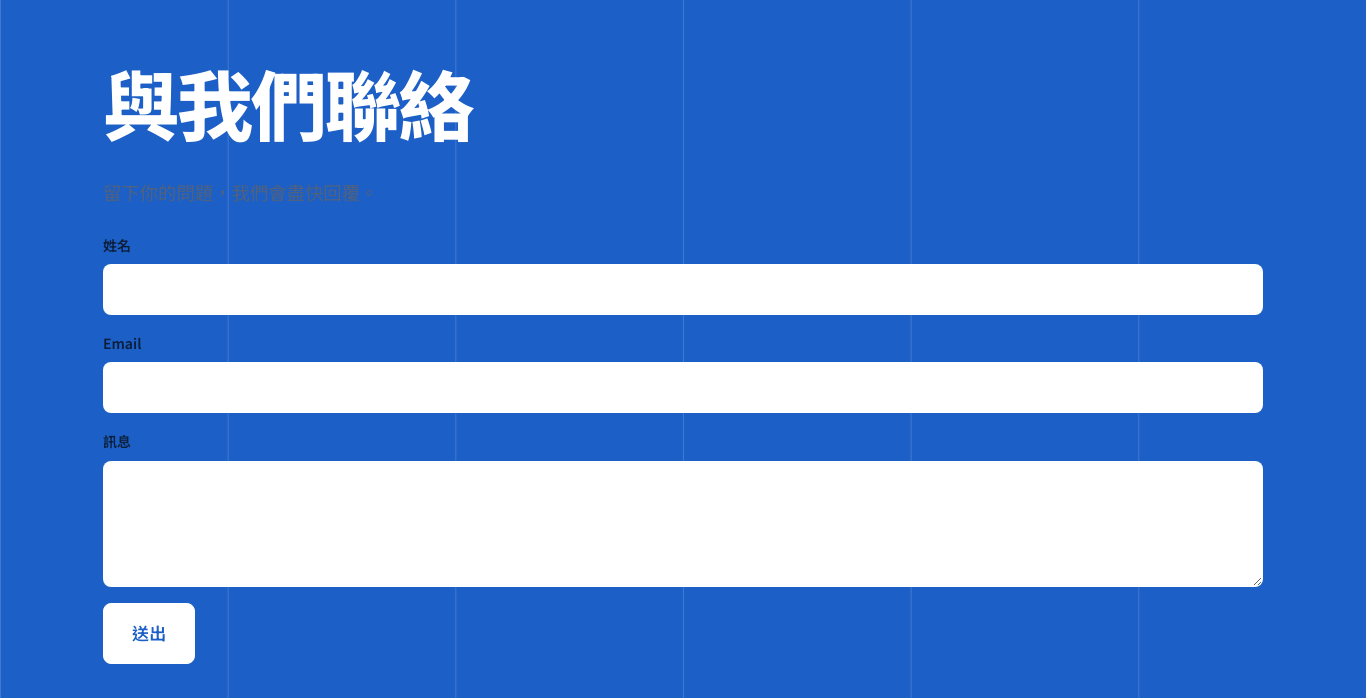
it: site form › reports a failed submission honestly
In the field labelled "姓名": point(683, 290) [103,264,1263,315], type "小明"
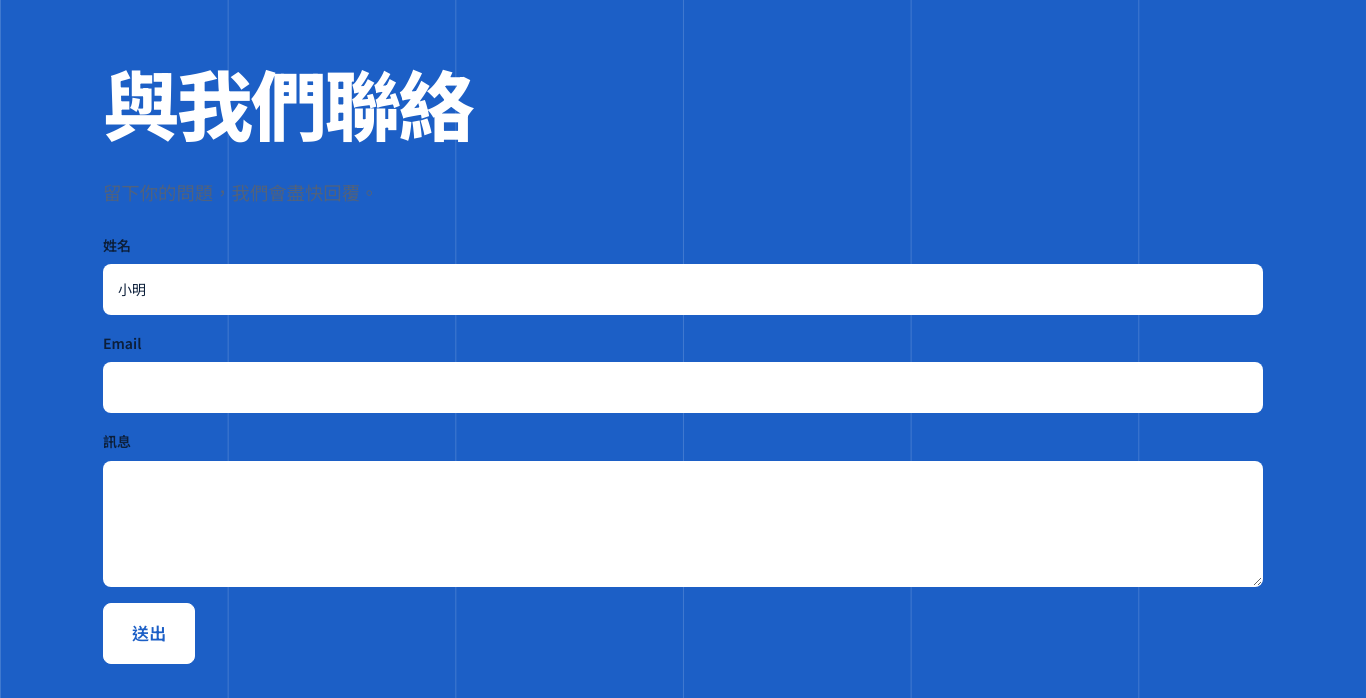
In the field labelled "Email": point(683, 388) [103,362,1263,414], type "a@b.co"
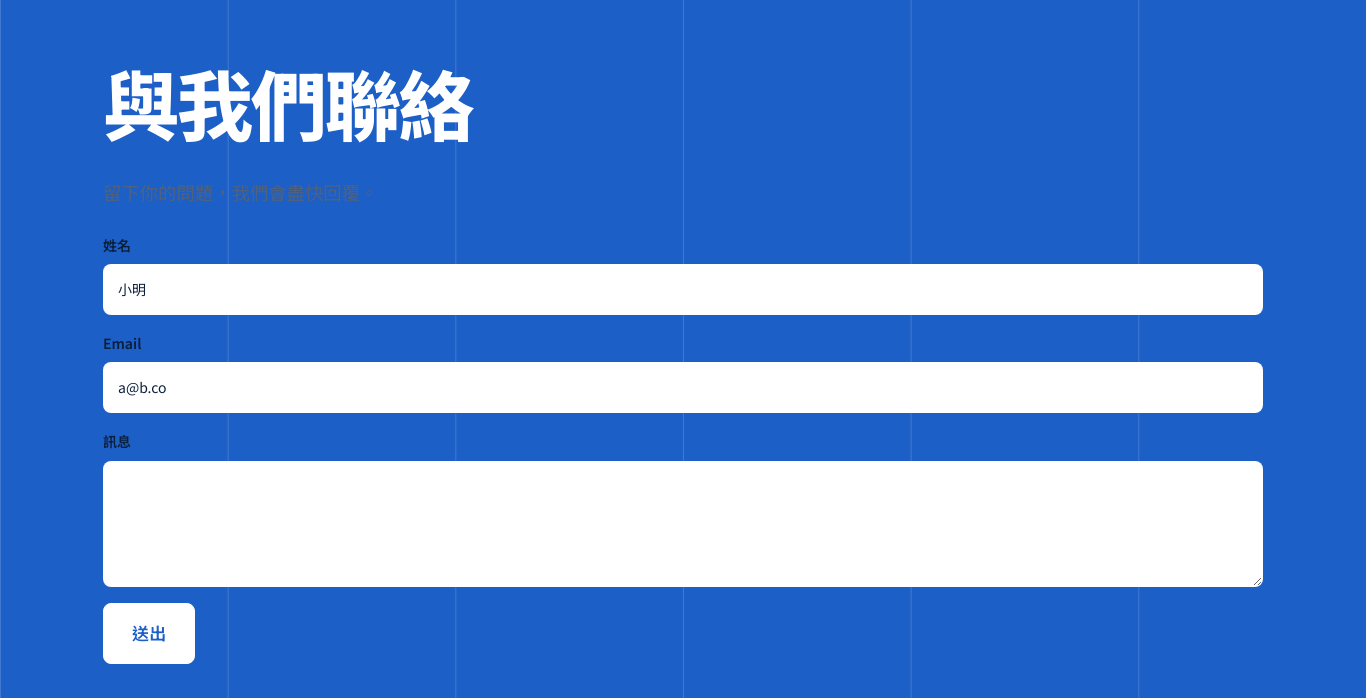
In the text box labelled "訊息": point(683, 524) [103,461,1263,588], type "你好"
(page scrolled)
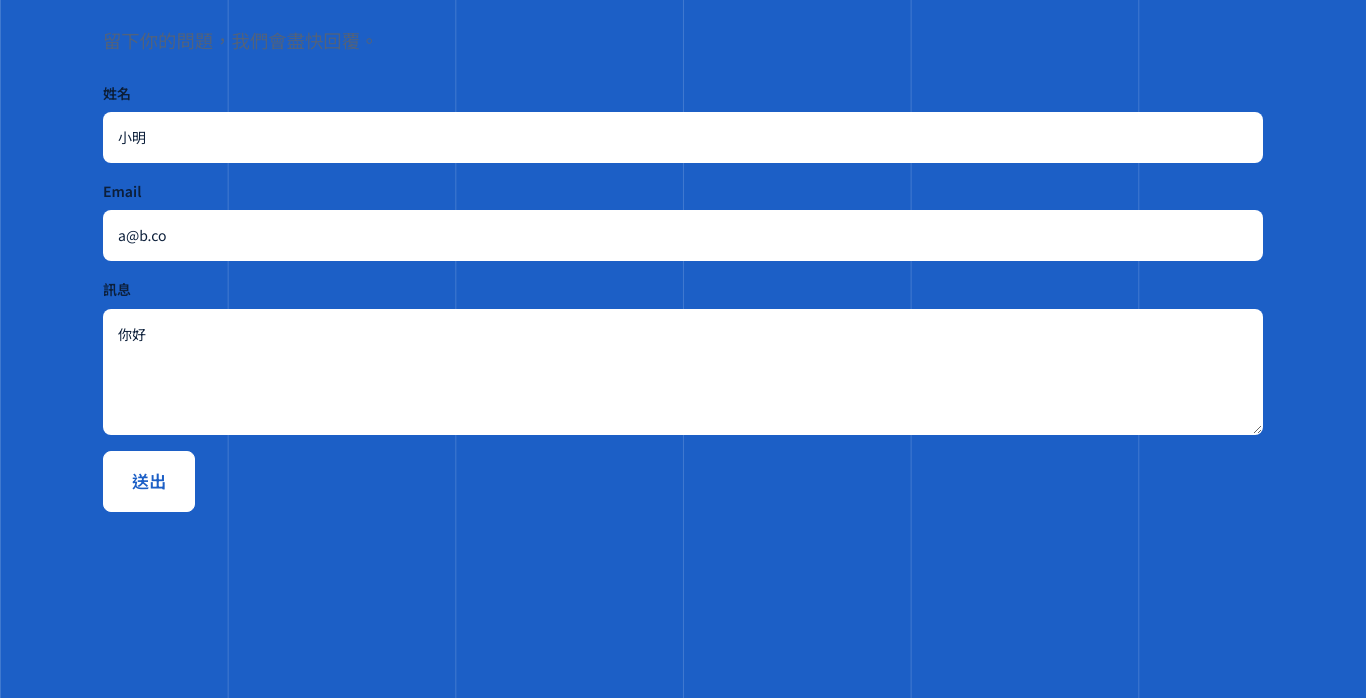
Submit the form "送出", box [103,81,1263,549]
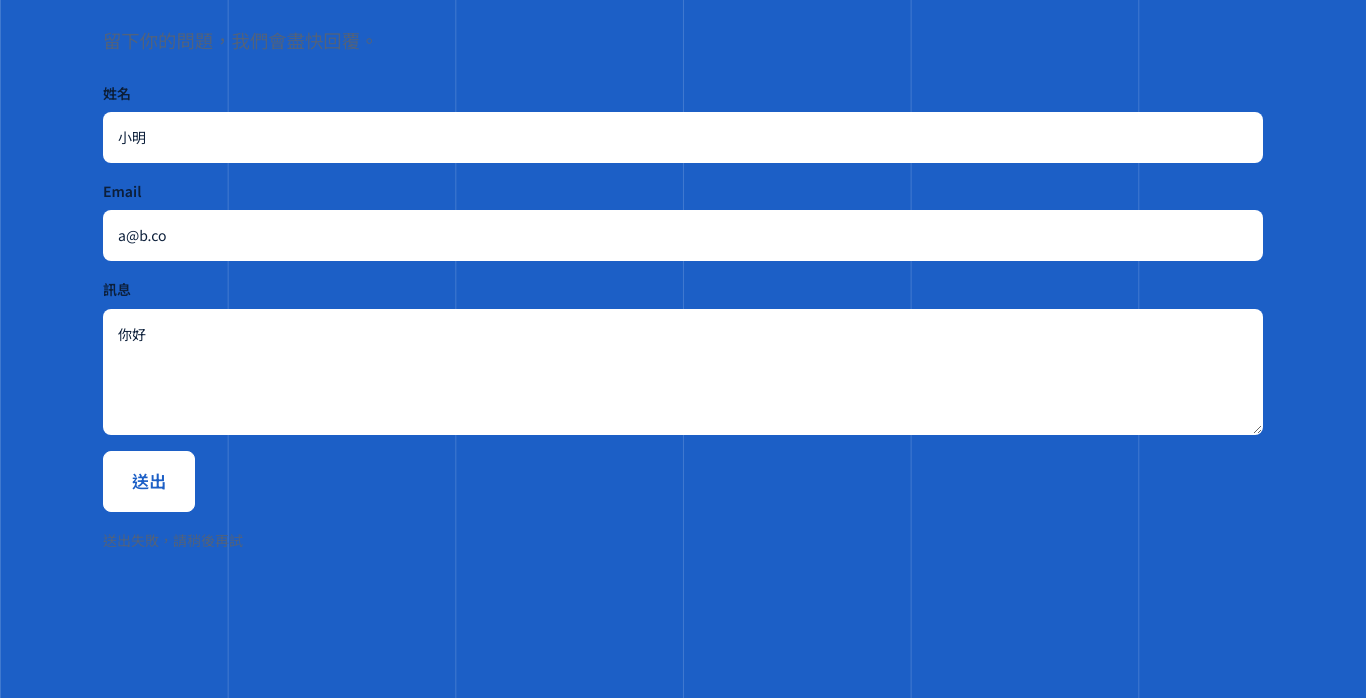
Expected: the text "送出失敗，請稍後再試" is shown, [103,530,243,550]
